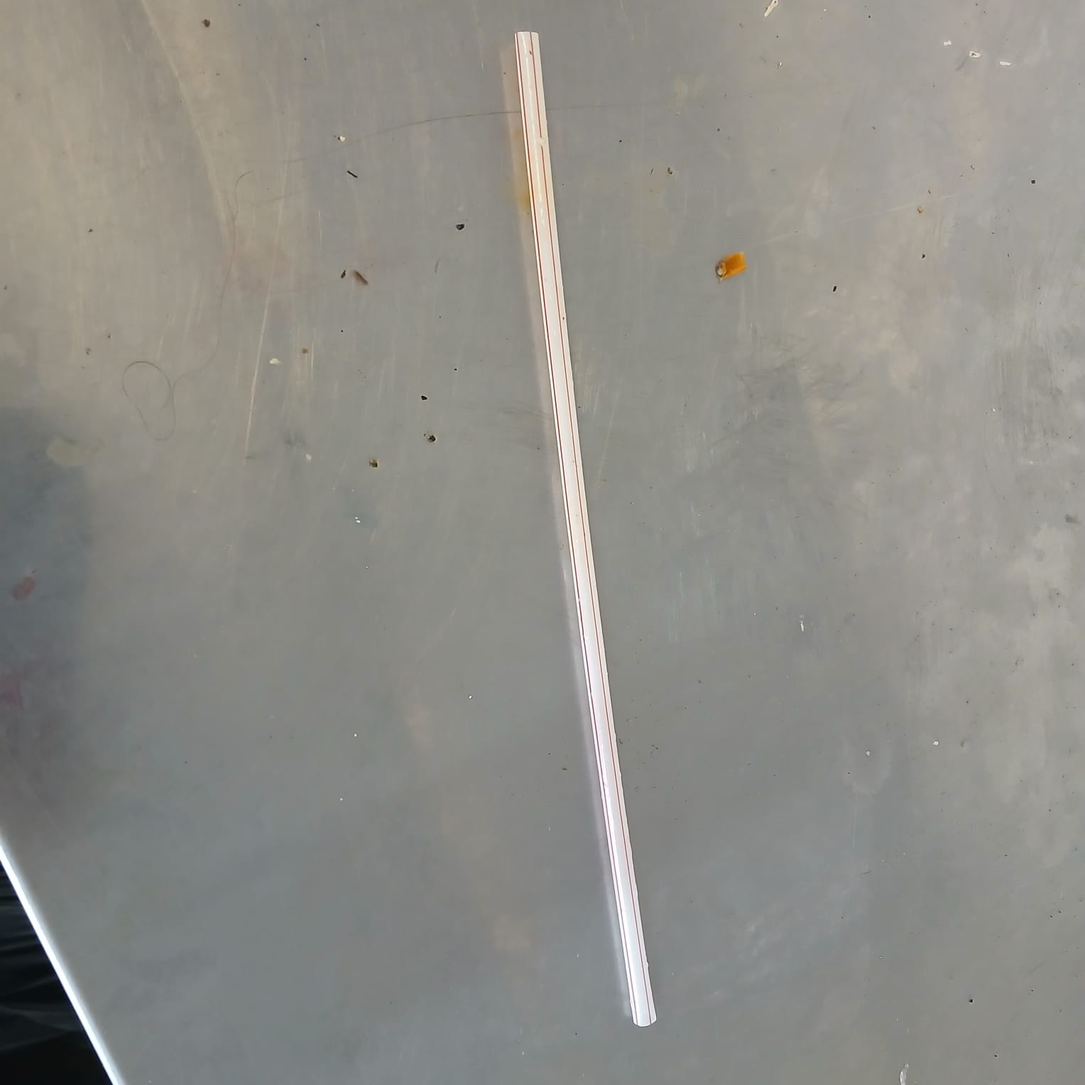Ordinario: (511, 30, 664, 1026)
